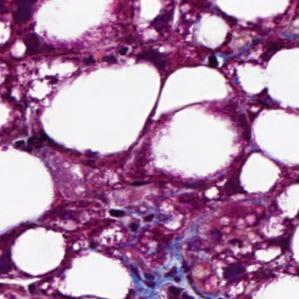inflammation: (210, 240, 260, 293), (97, 197, 146, 244)
